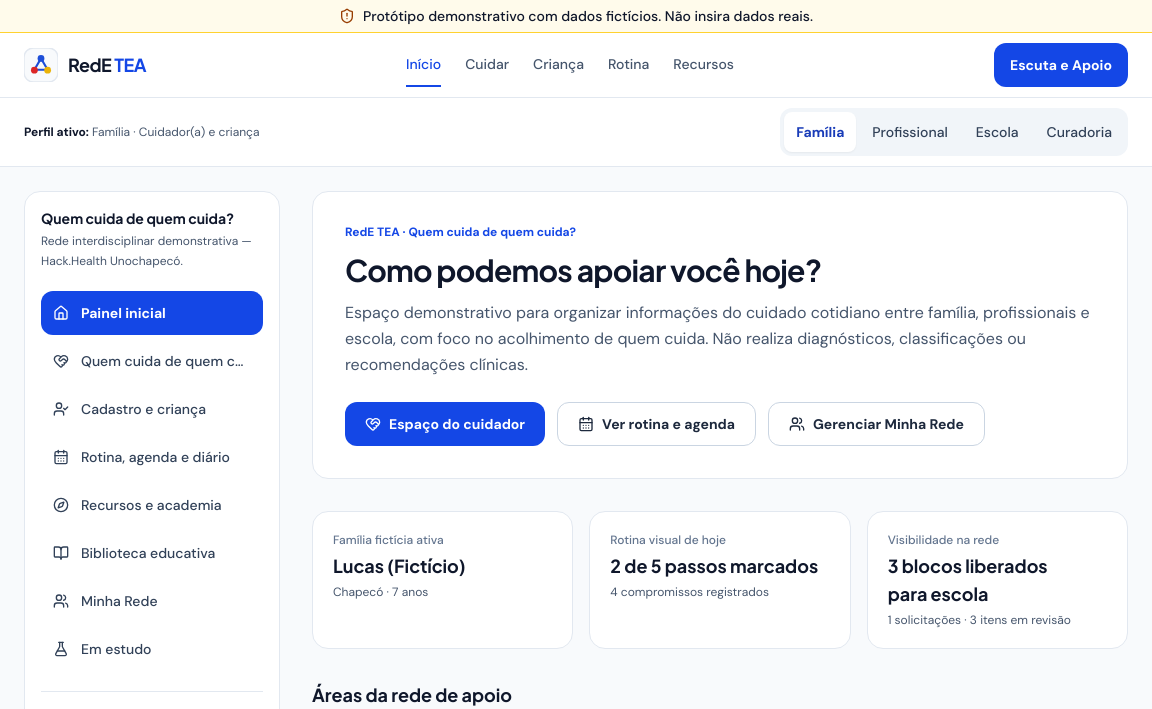
Test: RedE TEA — Protótipo Navegável › exibe seções em estudo com sinalização de revisão interdisciplinar e suporta navegação por teclado
Click the button "Em estudo" at (152, 649), box top-left (41, 627), bottom-right (263, 671)
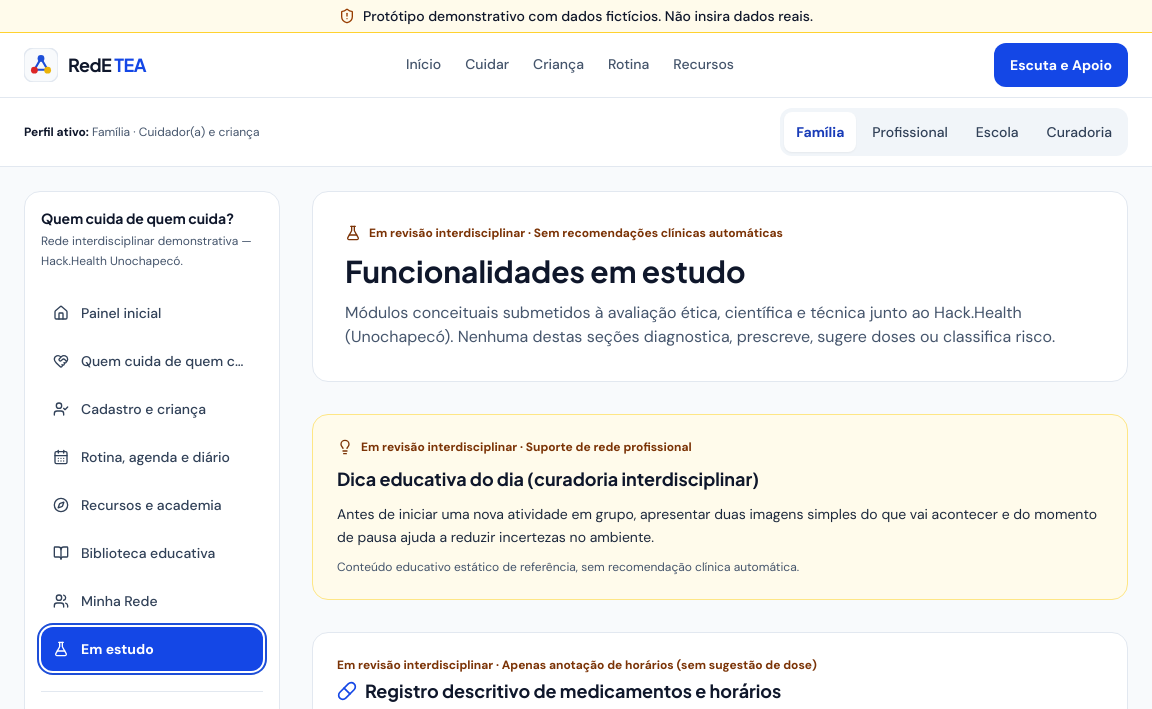
Now the heading "Funcionalidades em estudo" is shown, box top-left (345, 252), bottom-right (746, 290)
